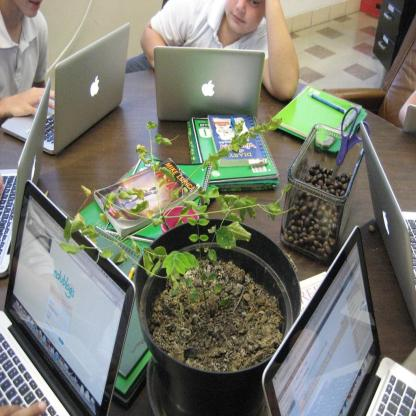board: (0, 178, 136, 416), (260, 224, 416, 416), (0, 22, 131, 156), (359, 120, 416, 327), (0, 78, 50, 278), (148, 42, 270, 120), (330, 108, 369, 188)
